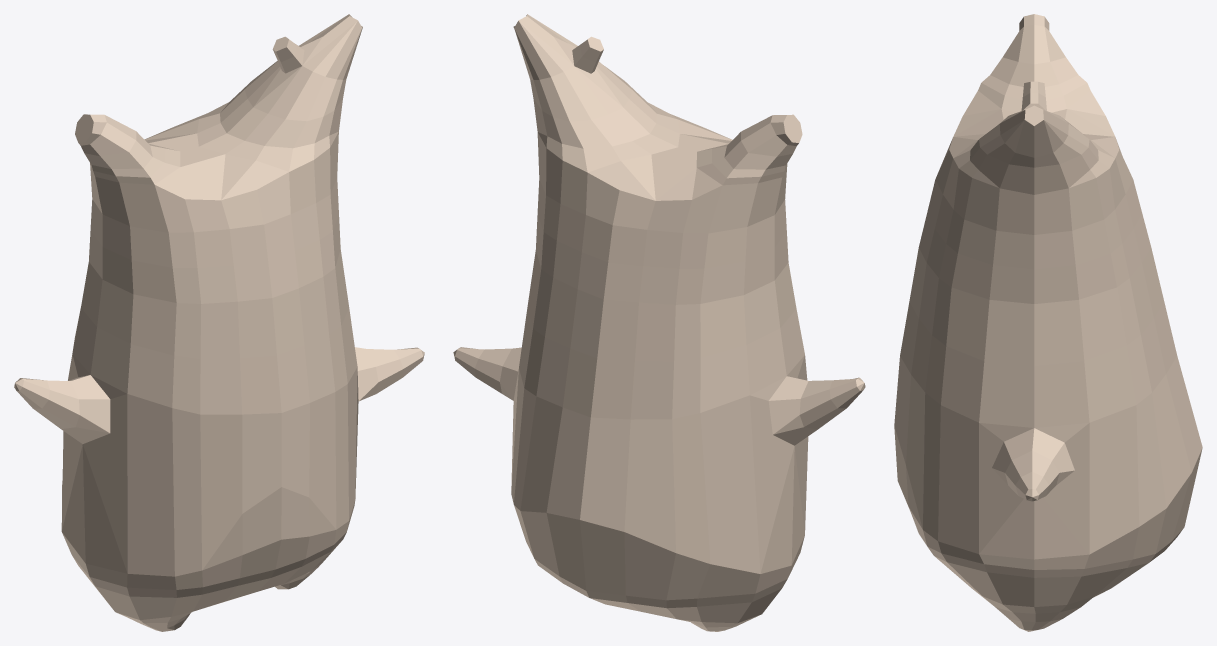
File: frame_0142.obj
3 views of the same model, side by side, from view 1: azimuth 30°, elevation 25°; view 2: azimuth 150°, elevation 25°; view 3: azimuth 270°, elevation 25° (orthographic).
Visible parts, largest first — view 1: korok; view 2: korok; view 3: korok.
Part boxes in pixels (x1=…): korok: x1=14, y1=14, x2=424, y2=631; korok: x1=453, y1=14, x2=865, y2=631; korok: x1=894, y1=14, x2=1202, y2=631.
Size of the model in its own units: 1.64 by 2.18 by 1.07.
